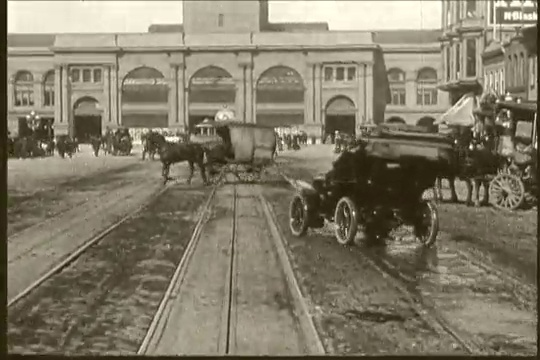car: (280, 119, 455, 252)
carriage: (409, 90, 533, 221), (138, 118, 282, 194)
